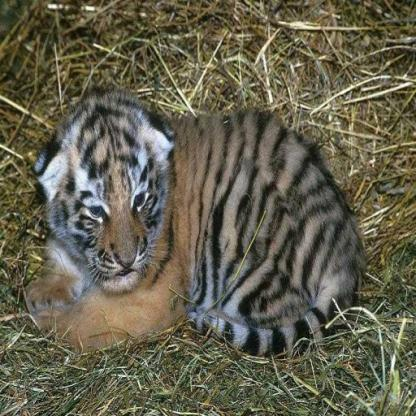Tiger: (17, 68, 386, 378)
